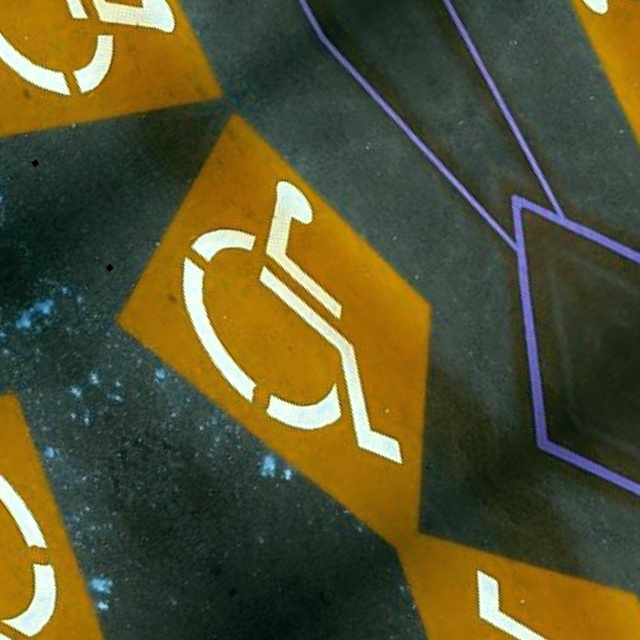ISA: (144, 168, 463, 520), (0, 403, 133, 640), (399, 526, 640, 640), (0, 0, 185, 129), (563, 0, 640, 222)
